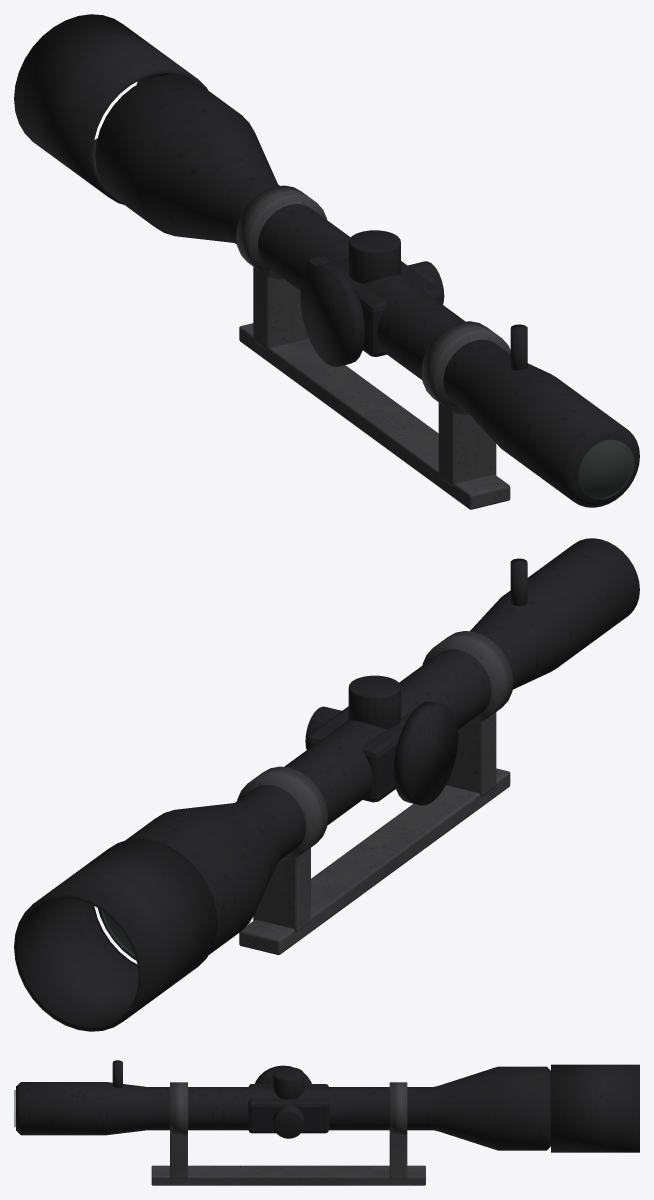
The model's file is scope_15x.glb.
The picture shows the model from 3 angles, top to bottom: view 1: azimuth 30°, elevation 25°; view 2: azimuth 150°, elevation 25°; view 3: azimuth 270°, elevation 25°; orthographic projection. The views are drawn at different scales.
Visible parts, largest first — view 1: tube, shade, base, wheel, riser0, riser1, ring1, ring0, lens_r, turret_t, saddle, lever; view 2: tube, shade, base, wheel, riser1, riser0, ring0, ring1, saddle, turret_t, lever; view 3: tube, shade, base, saddle, ring1, ring0, turret_t, turret_s, riser1, riser0, wheel, lever.
Part boxes in pixels (x1,y1,x2,y2): tube: [95, 74, 639, 507]; shade: [14, 14, 207, 204]; base: [239, 323, 510, 509]; wheel: [300, 263, 364, 366]; riser0: [438, 402, 496, 486]; riser1: [253, 267, 308, 351]; ring1: [236, 185, 326, 279]; ring0: [421, 321, 510, 414]; lens_r: [578, 440, 633, 499]; turret_t: [348, 230, 400, 283]; saddle: [307, 256, 442, 356]; lever: [510, 324, 527, 370]; tube: [98, 538, 639, 960]; shade: [14, 838, 217, 1031]; base: [239, 768, 510, 954]; wheel: [393, 702, 458, 805]; riser1: [253, 848, 310, 932]; riser0: [446, 712, 496, 796]; ring0: [422, 631, 513, 724]; ring1: [237, 766, 328, 860]; saddle: [307, 701, 429, 802]; turret_t: [348, 675, 400, 728]; lever: [510, 558, 527, 605]; tube: [16, 1066, 550, 1150]; shade: [551, 1064, 639, 1152]; base: [151, 1165, 425, 1185]; saddle: [248, 1084, 329, 1133]; ring1: [389, 1082, 407, 1134]; ring0: [170, 1082, 187, 1134]; turret_t: [273, 1067, 304, 1099]; turret_s: [273, 1104, 304, 1138]; riser1: [389, 1134, 407, 1178]; riser0: [170, 1134, 187, 1178]; wheel: [255, 1065, 311, 1083]; lever: [112, 1060, 122, 1088].
Bounding box in the file's own units: 0.069 × 0.102 × 0.4915.
Materials: 3 (2 with a texture image).
